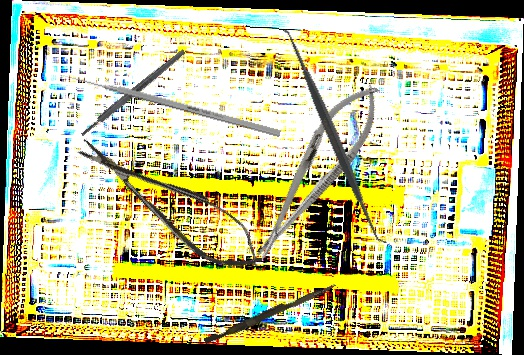Micro Scissor: (68, 118, 273, 288)
Needle Holder: (238, 72, 395, 271)
Pusher: (60, 70, 282, 138), (203, 278, 337, 348)
Scalpel Handle: (79, 48, 187, 138)
Spatula Surgical: (275, 23, 393, 251)
